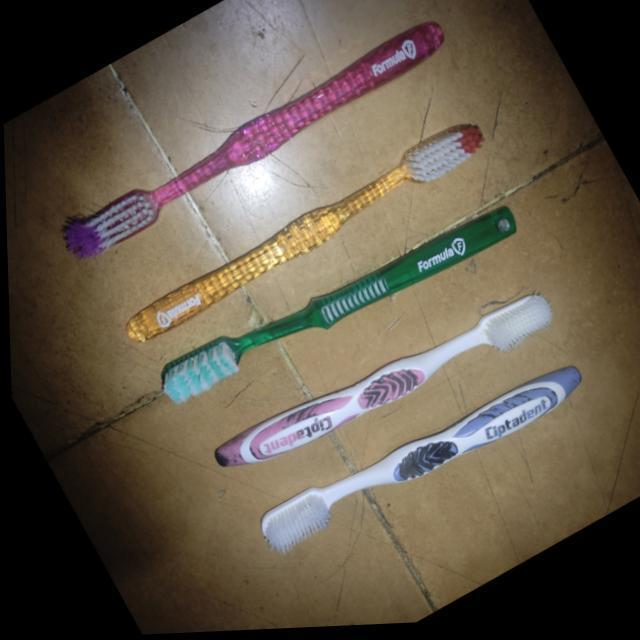toothbrush: (19, 0, 482, 302), (89, 101, 513, 386), (124, 173, 544, 455), (189, 258, 589, 534), (226, 334, 610, 602)
